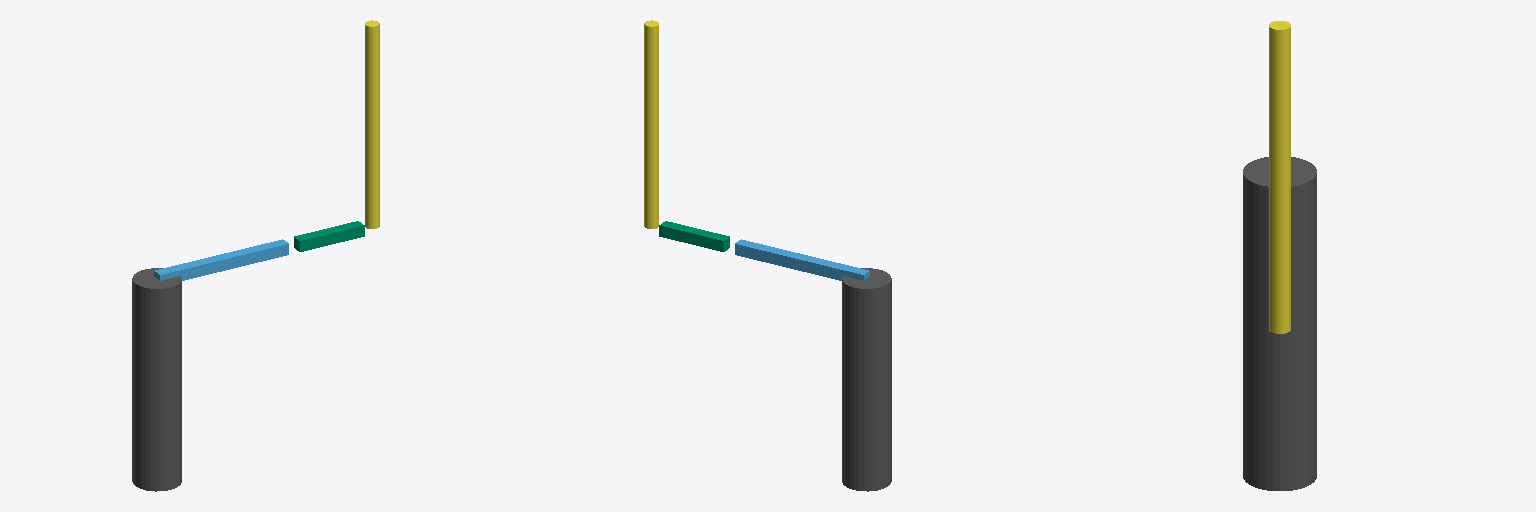
The robot description file, URDF, robot "scara_robot":
<?xml version="1.0"?>
<robot name="scara_robot" xmlns:xacro="http://www.ros.org/wiki/xacro">

  <!-- Link base -->
  <link name="base_link">
    <visual>
        <geometry>
        <cylinder radius="0.1" length="0.9"/>
        </geometry>
        <!-- La mitad de la altura hacia abajo para que apoye sobre el piso -->
        <origin xyz="0 0 0.45" rpy="0 0 0"/>
        <material name="gray">
        <color rgba="0.4 0.4 0.4 1.0"/>
        </material>
    </visual>
  </link>

  <!-- Primer eslabón -->
  <joint name="joint1" type="revolute">
    <origin xyz="0 0 0.9" rpy="0 0 0"/>
    <axis xyz="0 0 1"/>
    <parent link="base_link"/>
    <child link="link1"/>
    <limit lower="-3.14" upper="3.14" effort="1.0" velocity="1.0"/>
  </joint>
  <link name="link1">
    <visual>
      <geometry><box size="0.6 0.05 0.05"/></geometry>
      <origin xyz="0.3 0 0" rpy="0 0 0"/>
    </visual>
  </link>

  <!-- Segundo eslabón -->
  <joint name="joint2" type="revolute">
    <origin xyz="0.6 0 0" rpy="0 0 0"/>
    <axis xyz="0 0 1"/>
    <parent link="link1"/>
    <child link="link2"/>
    <limit lower="-3.14" upper="3.14" effort="1.0" velocity="1.0"/>
  </joint>
  <link name="link2">
    <visual>
      <geometry><box size="0.3 0.05 0.05"/></geometry>
      <origin xyz="0.2 0 0" rpy="0 0 0"/>
    </visual>
  </link>

  <!-- Movimiento vertical (prismático) -->
  <joint name="joint3" type="prismatic">
    <origin xyz="0.4 0 0" rpy="0 0 0"/>
    <axis xyz="0 0 -1"/>
    <parent link="link2"/>
    <child link="tool"/>
    <limit lower="0.0" upper="0.9" effort="10" velocity="0.5"/>
  </joint>
  <link name="tool">
    <visual>
      <geometry><cylinder radius="0.03" length="0.9"/></geometry>
      <origin xyz="0 0 0.45" rpy="0 0 0"/>
    </visual>
  </link>

</robot>

--- What the picture shows (computed from the rendered views, not written in the file) ---
The picture shows the robot from 3 angles, left to right: view 1: azimuth 30°, elevation 25°; view 2: azimuth 150°, elevation 25°; view 3: azimuth 270°, elevation 25°; orthographic projection.
Model scara_robot with 4 links and 3 joints (2 revolute, 1 prismatic), rooted at base_link, posed all joints at 0.
Visible links, largest first — view 1: base_link, tool, link1, link2; view 2: base_link, tool, link1, link2; view 3: base_link, tool.
Boxes of the visible links, bbox=[...] form: base_link: bbox=[132, 268, 181, 491]; tool: bbox=[365, 20, 379, 228]; link1: bbox=[154, 239, 288, 280]; link2: bbox=[294, 221, 364, 251]; base_link: bbox=[842, 268, 891, 491]; tool: bbox=[644, 20, 658, 228]; link1: bbox=[735, 239, 869, 280]; link2: bbox=[659, 221, 729, 251]; base_link: bbox=[1243, 157, 1316, 490]; tool: bbox=[1269, 21, 1290, 333].
Size in the robot's own frame: 1.13 by 0.2 by 1.8 metres.
Geometry: primitives only (box / cylinder / sphere), no mesh files.